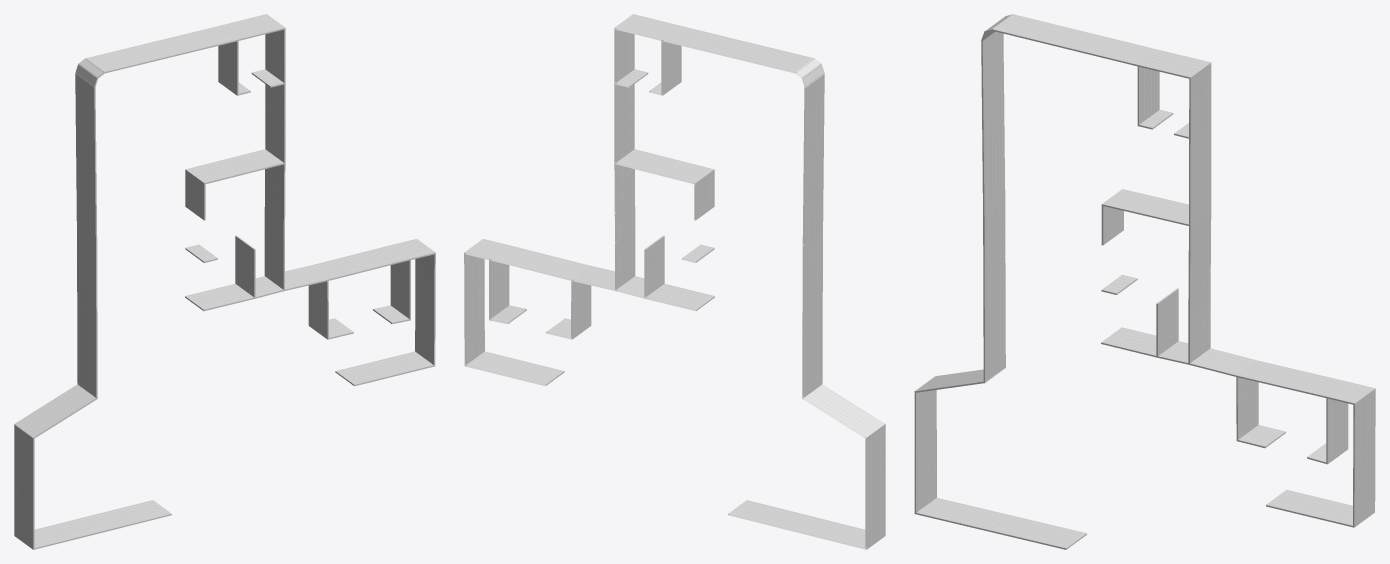
The model's file is wall_1.obj.
The picture shows the model from 3 angles, left to right: view 1: azimuth 30°, elevation 25°; view 2: azimuth 150°, elevation 25°; view 3: azimuth 330°, elevation 25°; orthographic projection. The views are drawn at different scales.
Parts seen in each view (by area): view 1: walls; view 2: walls; view 3: walls.
Boxes of the visible parts, x1,y1,x2,y2 form: walls: (14,14,435,549); walls: (464,14,885,549); walls: (914,14,1375,549).
Size of the model in its own units: 30.61 by 33.45 by 2.5.
1 material, 1 textured.
